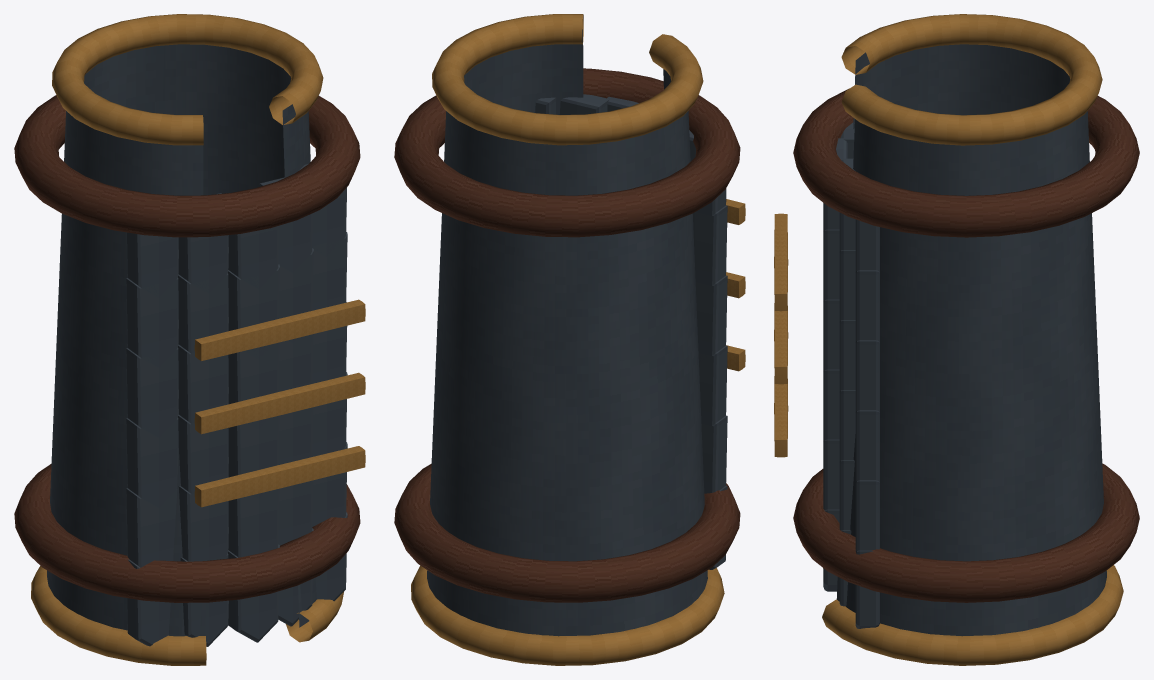
3 renders of one model, left to right at view 1: azimuth 30°, elevation 25°; view 2: azimuth 150°, elevation 25°; view 3: azimuth 270°, elevation 25°, orthographic.
Visible parts, largest first — view 1: iron.0, leather.4, leather.3, brass.2, brass.1, brass.35, brass.36, brass.37, iron.10, iron.15, iron.20, iron.25 (+26 smaller); view 2: iron.0, leather.4, leather.3, brass.2, brass.1, iron.10, iron.15, iron.20, iron.25, iron.8; view 3: iron.0, leather.4, leather.3, brass.2, brass.1, iron.14, iron.19, iron.24, iron.29, brass.37, iron.12, iron.17 (+12 smaller).
Part boxes in pixels (x1,y1,x2,y2): iron.0: [47, 44, 316, 636]; leather.4: [14, 95, 360, 237]; leather.3: [14, 463, 360, 602]; brass.2: [52, 14, 323, 145]; brass.1: [31, 566, 343, 665]; brass.35: [194, 446, 365, 507]; brass.36: [194, 372, 365, 434]; brass.37: [194, 299, 365, 360]; iron.10: [126, 277, 178, 367]; iron.15: [126, 347, 178, 437]; iron.20: [126, 417, 178, 507]; iron.25: [126, 488, 177, 567]; iron.0: [427, 29, 707, 636]; leather.4: [394, 68, 740, 237]; leather.3: [394, 463, 740, 602]; brass.2: [432, 14, 703, 145]; brass.1: [411, 565, 724, 665]; iron.10: [692, 205, 727, 285]; iron.15: [695, 275, 727, 361]; iron.20: [698, 345, 727, 425]; iron.25: [701, 415, 727, 493]; iron.8: [559, 94, 609, 114]; iron.0: [836, 44, 1106, 636]; leather.4: [793, 89, 1139, 237]; leather.3: [793, 463, 1139, 602]; brass.2: [841, 14, 1102, 145]; brass.1: [822, 565, 1123, 665]; iron.14: [855, 270, 879, 341]; iron.19: [855, 340, 879, 411]; iron.24: [855, 410, 879, 481]; iron.29: [855, 480, 879, 551]; brass.37: [774, 213, 788, 311]; iron.12: [823, 229, 839, 300]; iron.17: [823, 299, 839, 370].
Size of the model in its own units: 0.172 by 0.296 by 0.1815.
3 materials, 3 textured.
